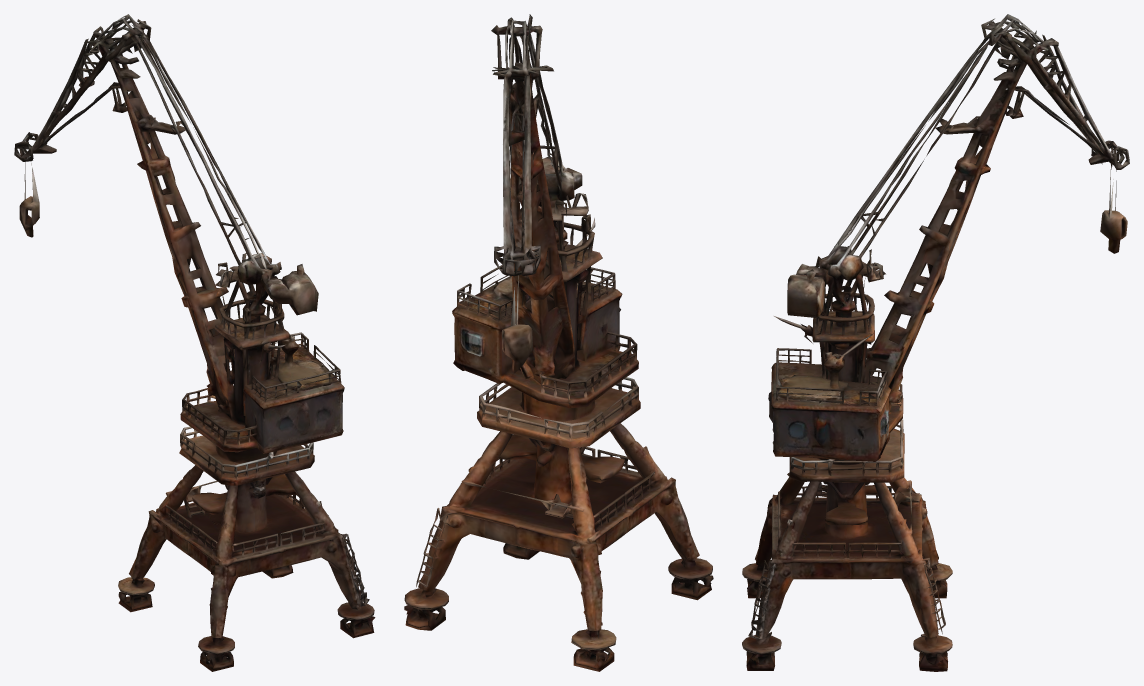
The model's file is pt_crane.glb.
The picture shows the model from 3 angles, left to right: view 1: azimuth 30°, elevation 25°; view 2: azimuth 150°, elevation 25°; view 3: azimuth 270°, elevation 25°; orthographic projection. The views are drawn at different scales.
Visible parts, largest first — view 1: tripo_node_e8eec79c-bd00-489a-a6c2-ae350d003d2f; view 2: tripo_node_e8eec79c-bd00-489a-a6c2-ae350d003d2f; view 3: tripo_node_e8eec79c-bd00-489a-a6c2-ae350d003d2f.
Part boxes in pixels (<box>): tripo_node_e8eec79c-bd00-489a-a6c2-ae350d003d2f: <box>14,14,375,671</box>; tripo_node_e8eec79c-bd00-489a-a6c2-ae350d003d2f: <box>404,14,713,671</box>; tripo_node_e8eec79c-bd00-489a-a6c2-ae350d003d2f: <box>742,14,1129,671</box>.
Size of the model in its own units: 0.3543 by 0.98 by 0.5824.
1 material, 1 textured.
